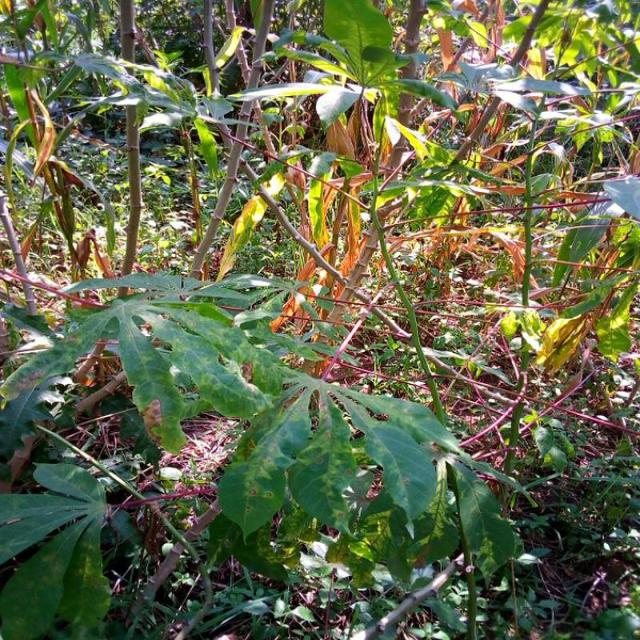cassava leaf: (2, 273, 521, 591)
